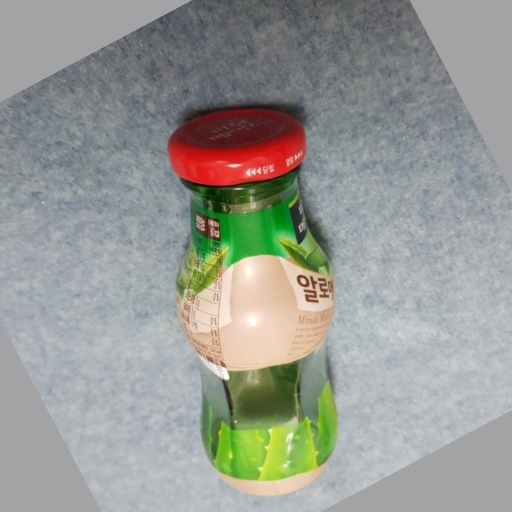Glass_4: (165, 107, 341, 497)
